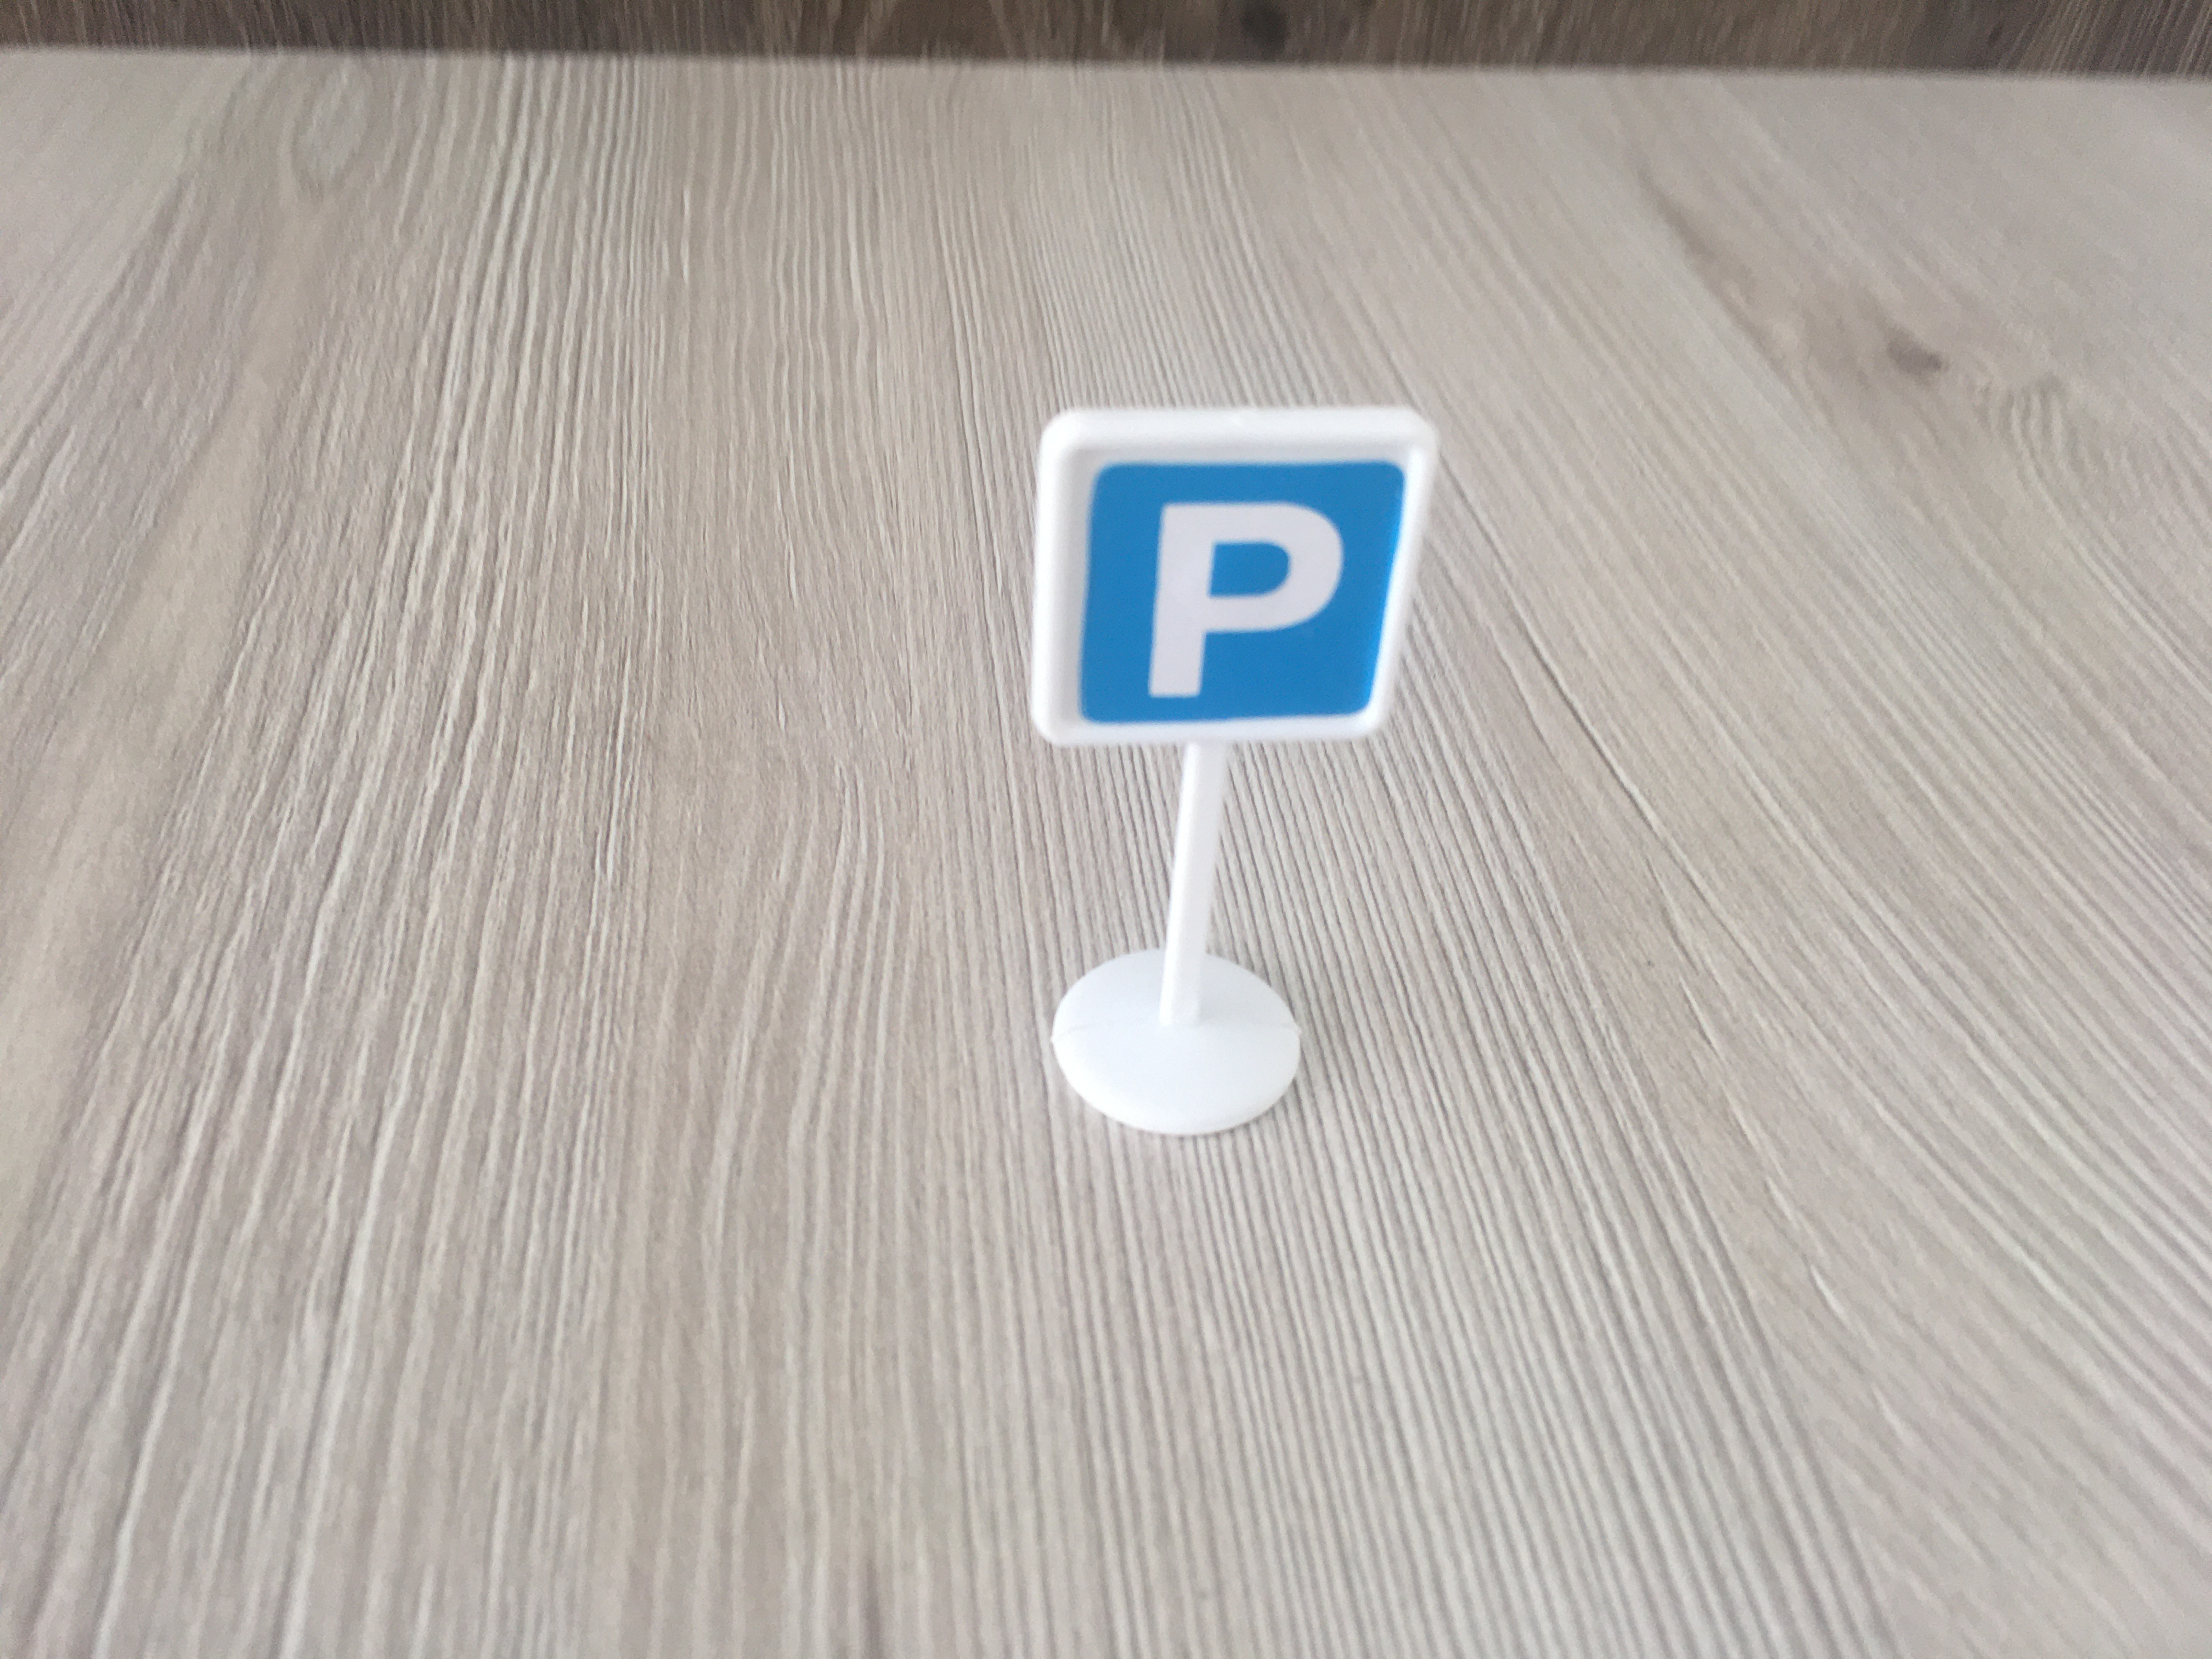parking: (1045, 425, 1439, 739)
